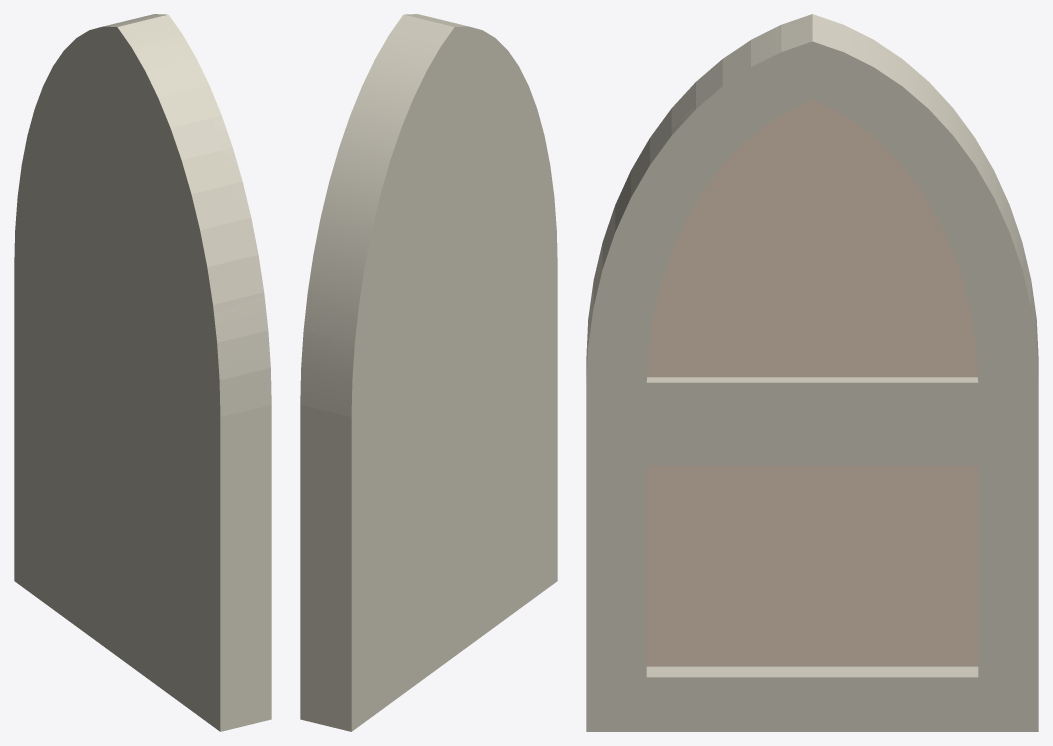
File: door.fbx
3 views of the same model, side by side, from view 1: azimuth 30°, elevation 25°; view 2: azimuth 150°, elevation 25°; view 3: azimuth 270°, elevation 25° (orthographic). The views are drawn at different scales.
Parts seen in each view (by area): view 1: door, door_cell.005, door_cell.006, door_cell.008, door_cell.002, door_cell.009, door_cell.004, door_cell.001, door_cell.003, door_cell; view 2: door, door_cell.008, door_cell.002, door_cell.006, door_cell.001, door_cell.009, door_cell.004, door_cell, door_cell.005, door_cell.007; view 3: door, door_cell.005, door_cell.006, door_cell.008, door_cell.001, door_cell.002, door_cell.009, door_cell.003, door_cell.007, door_cell, door_cell.004.
Boxes of the visible parts, x1=… form: door: x1=14, y1=14, x2=271, y2=731; door_cell.005: x1=14, y1=183, x2=117, y2=556; door_cell.006: x1=109, y1=290, x2=271, y2=549; door_cell.008: x1=14, y1=469, x2=271, y2=731; door_cell.002: x1=113, y1=121, x2=254, y2=313; door_cell.009: x1=113, y1=37, x2=222, y2=166; door_cell.004: x1=20, y1=70, x2=68, y2=201; door_cell.001: x1=51, y1=43, x2=119, y2=229; door_cell.003: x1=214, y1=120, x2=264, y2=298; door_cell: x1=82, y1=16, x2=183, y2=103; door: x1=300, y1=14, x2=557, y2=731; door_cell.008: x1=351, y1=400, x2=557, y2=731; door_cell.002: x1=451, y1=48, x2=550, y2=281; door_cell.006: x1=447, y1=198, x2=557, y2=478; door_cell.001: x1=389, y1=110, x2=457, y2=266; door_cell.009: x1=450, y1=27, x2=504, y2=161; door_cell.004: x1=336, y1=167, x2=412, y2=316; door_cell: x1=404, y1=14, x2=469, y2=137; door_cell.005: x1=303, y1=264, x2=451, y2=698; door_cell.007: x1=409, y1=86, x2=450, y2=140; door: x1=586, y1=14, x2=1038, y2=731; door_cell.005: x1=809, y1=254, x2=1038, y2=700; door_cell.006: x1=586, y1=253, x2=828, y2=532; door_cell.008: x1=586, y1=522, x2=1037, y2=726; door_cell.001: x1=808, y1=130, x2=975, y2=281; door_cell.002: x1=600, y1=78, x2=819, y2=311; door_cell.009: x1=693, y1=26, x2=820, y2=191; door_cell.003: x1=601, y1=108, x2=734, y2=286; door_cell.007: x1=806, y1=78, x2=946, y2=199; door_cell: x1=779, y1=14, x2=888, y2=147; door_cell.004: x1=932, y1=168, x2=1021, y2=267.
Bounding box in the file's own units: 51.6 × 605 × 359.
